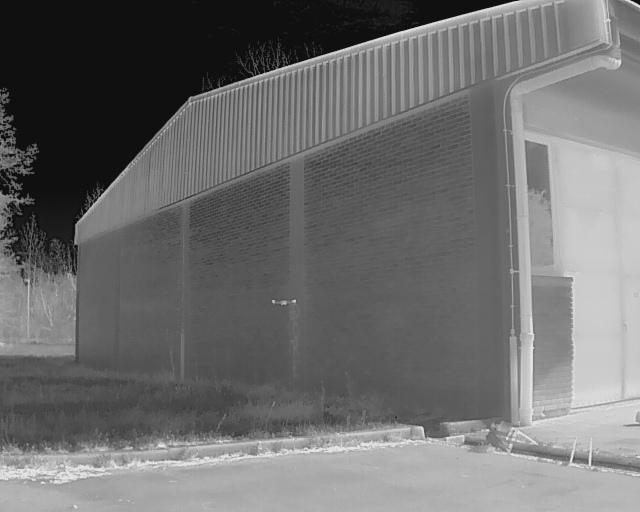drone: (263, 286, 304, 317)
